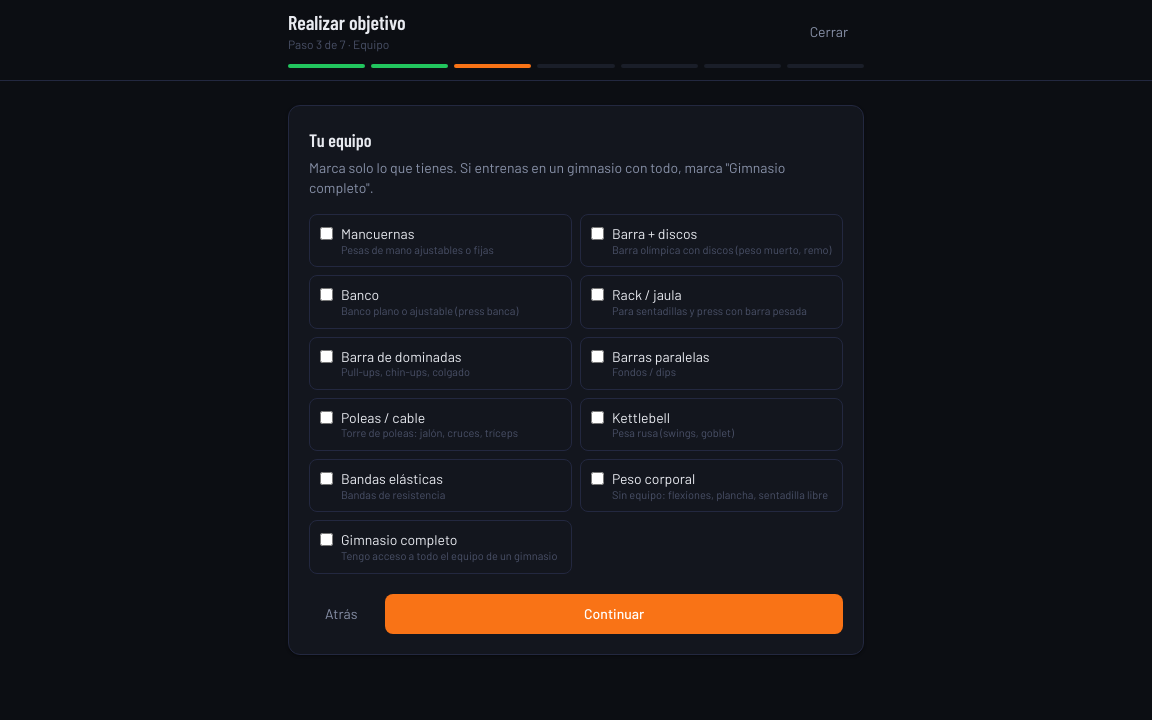
Test: EquipmentStep validation (Req 4.1, 1.4) › shows the Spanish error and keeps the selected equipment
Click the checkbox labelled "Mancuernas Pesas de mano ajustables o fijas" at (326, 234), box [320,227,333,240]
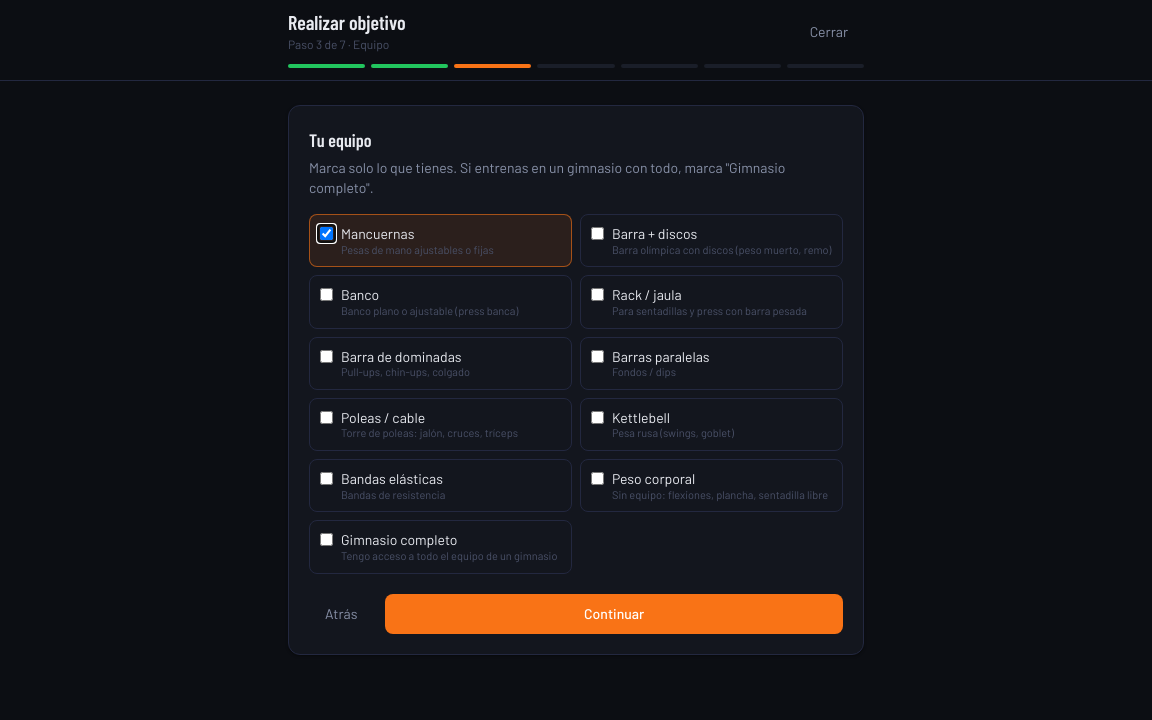
Now the checkbox labelled "Mancuernas Pesas de mano ajustables o fijas" is checked, box [320,227,333,240]
Click the button "Continuar" at (614, 614), box [385,594,843,634]
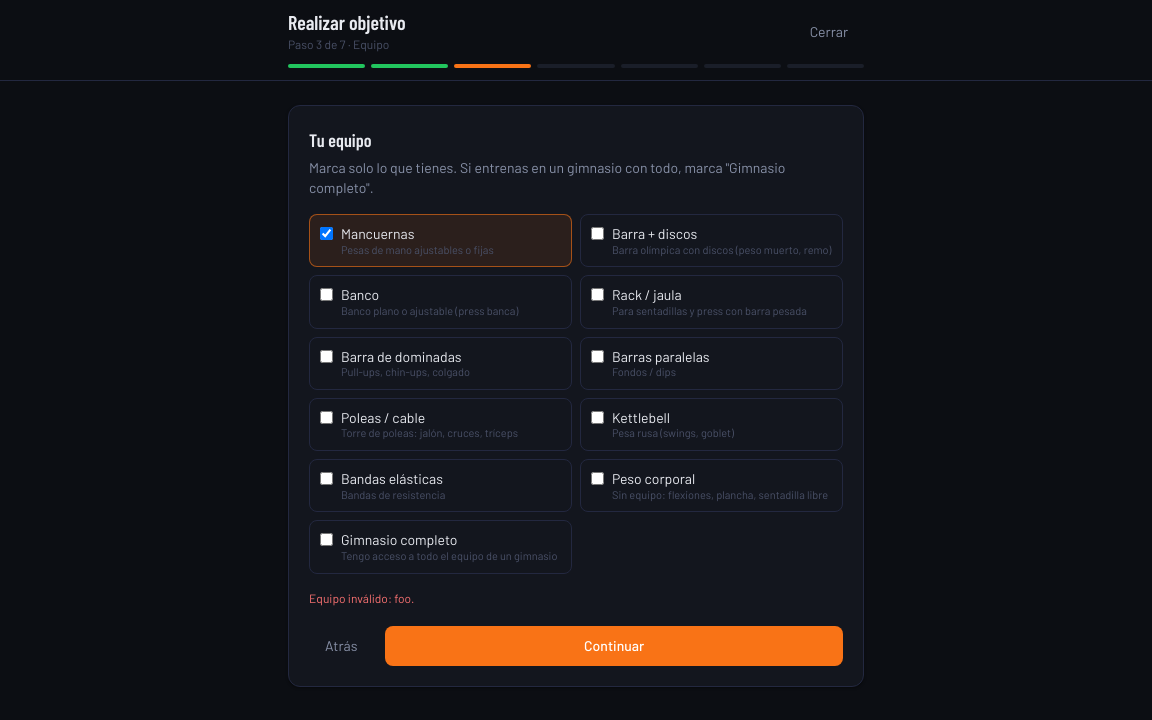
Now the checkbox labelled "Mancuernas Pesas de mano ajustables o fijas" is checked, box [320,227,333,240]
Now the text "Equipo inválido: foo." is shown, box [309,590,414,604]
